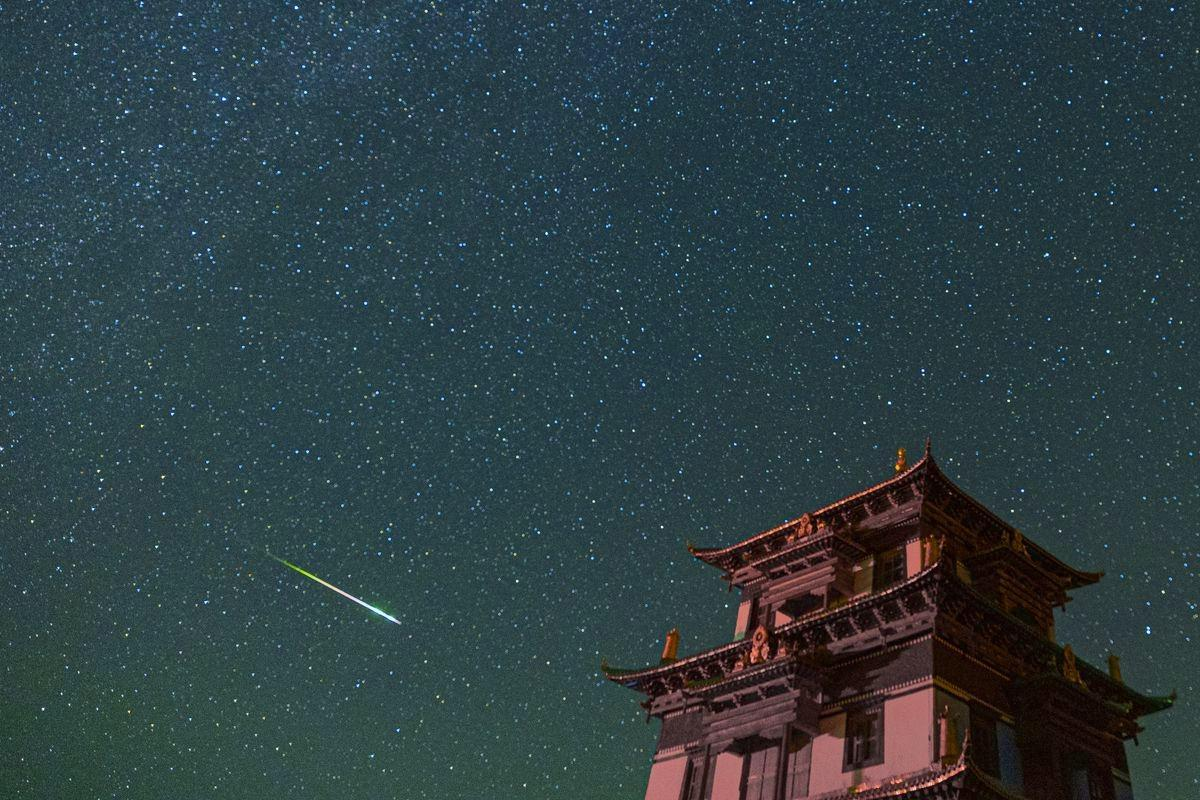meteorite: (244, 546, 436, 636)
